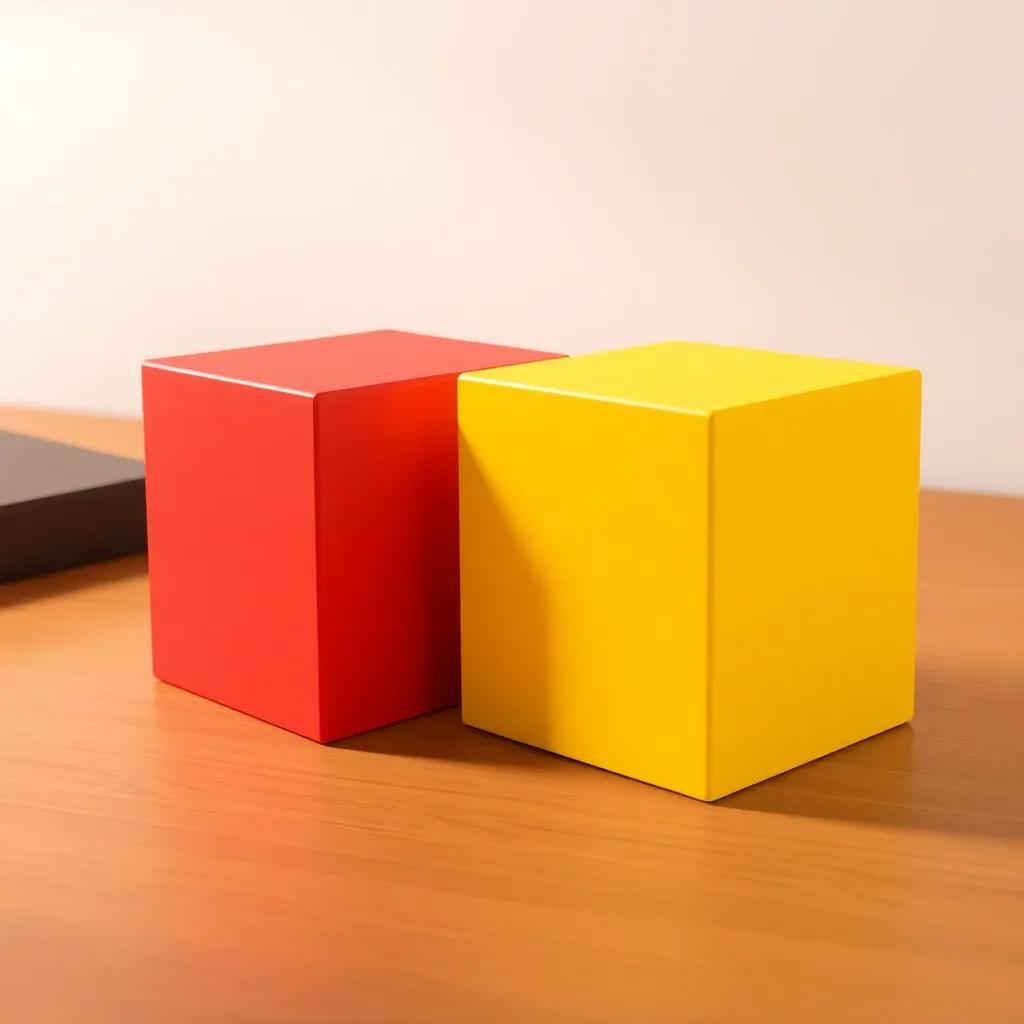cube: (455, 337, 922, 803), (139, 326, 568, 745)
